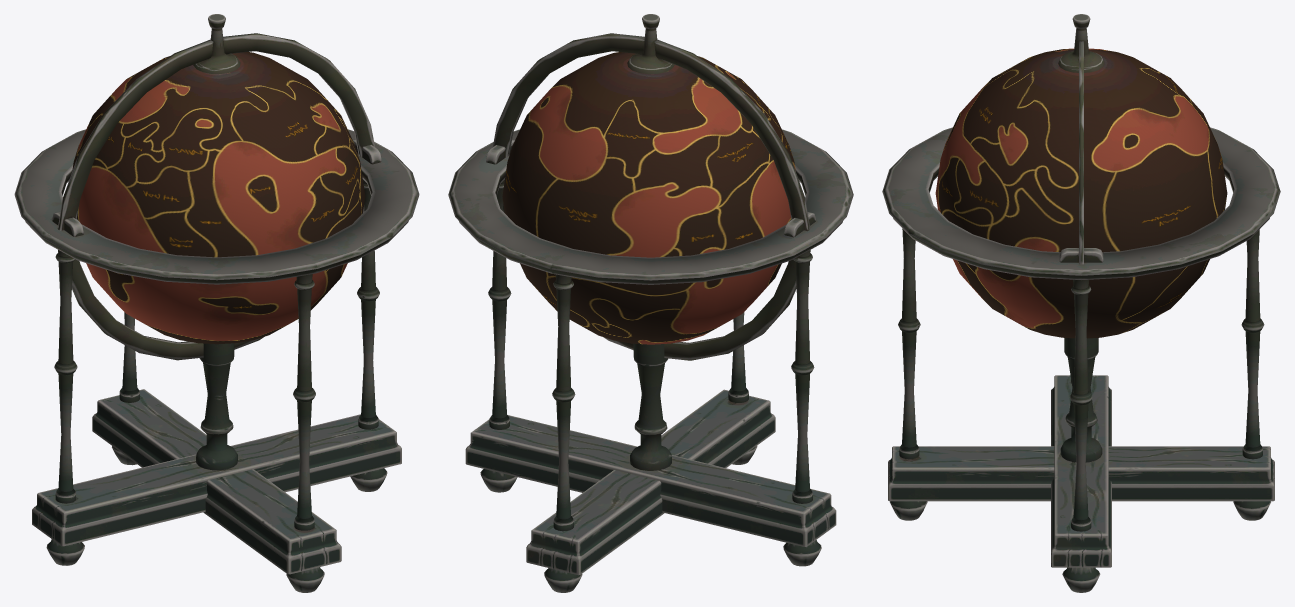
File: SM_Globe.gltf
The picture shows the model from 3 angles, left to right: view 1: azimuth 30°, elevation 25°; view 2: azimuth 150°, elevation 25°; view 3: azimuth 270°, elevation 25°; orthographic projection.
Visible parts, largest first — view 1: SM_Globe; view 2: SM_Globe; view 3: SM_Globe.
Boxes of the visible parts, x1=… form: SM_Globe: x1=14, y1=14, x2=419, y2=592; SM_Globe: x1=448, y1=14, x2=853, y2=592; SM_Globe: x1=882, y1=14, x2=1280, y2=592.
Size of the model in its own units: 1.13 by 1.56 by 1.13.
1 material, 1 textured.
